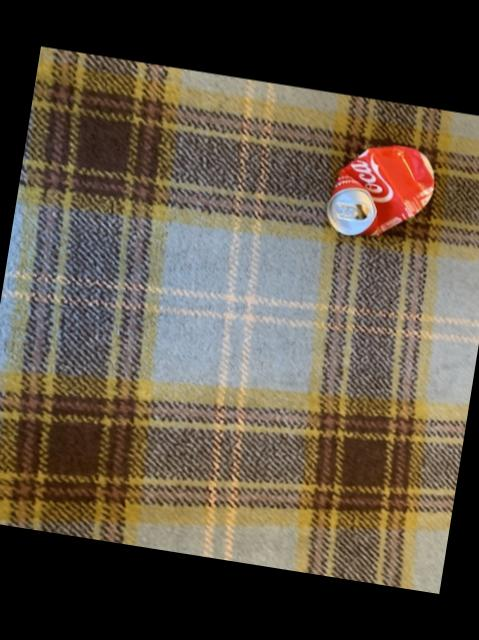metal: (324, 146, 432, 236)
